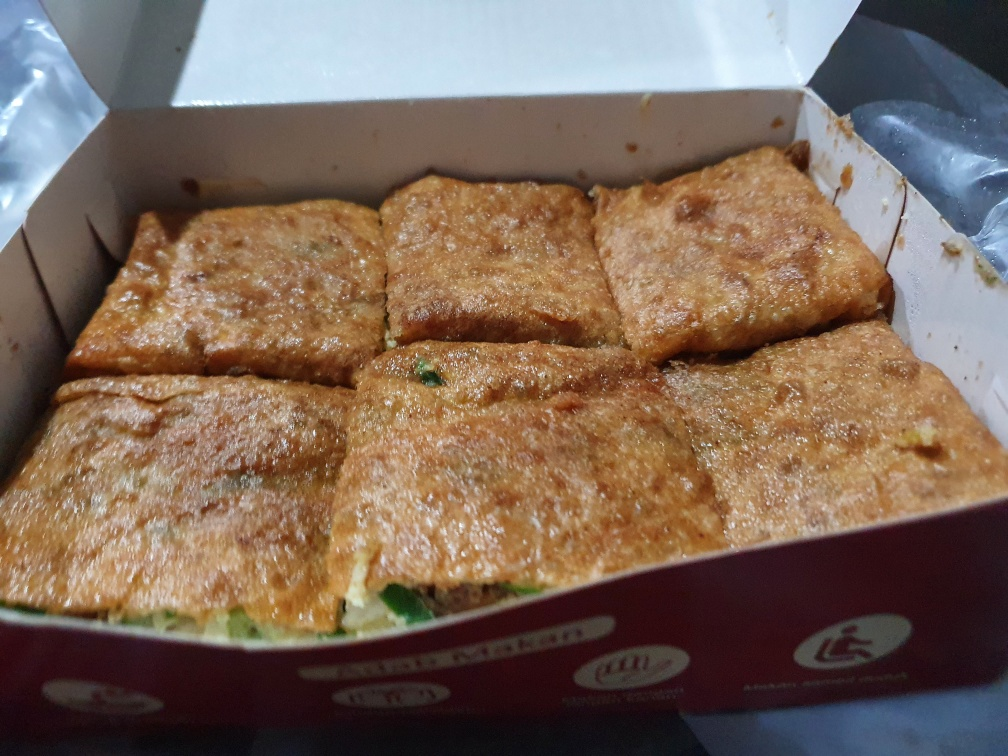martabak telor: (7, 377, 334, 658), (353, 347, 687, 616), (652, 332, 1004, 578), (572, 143, 877, 342), (81, 195, 391, 378), (372, 147, 624, 361)
